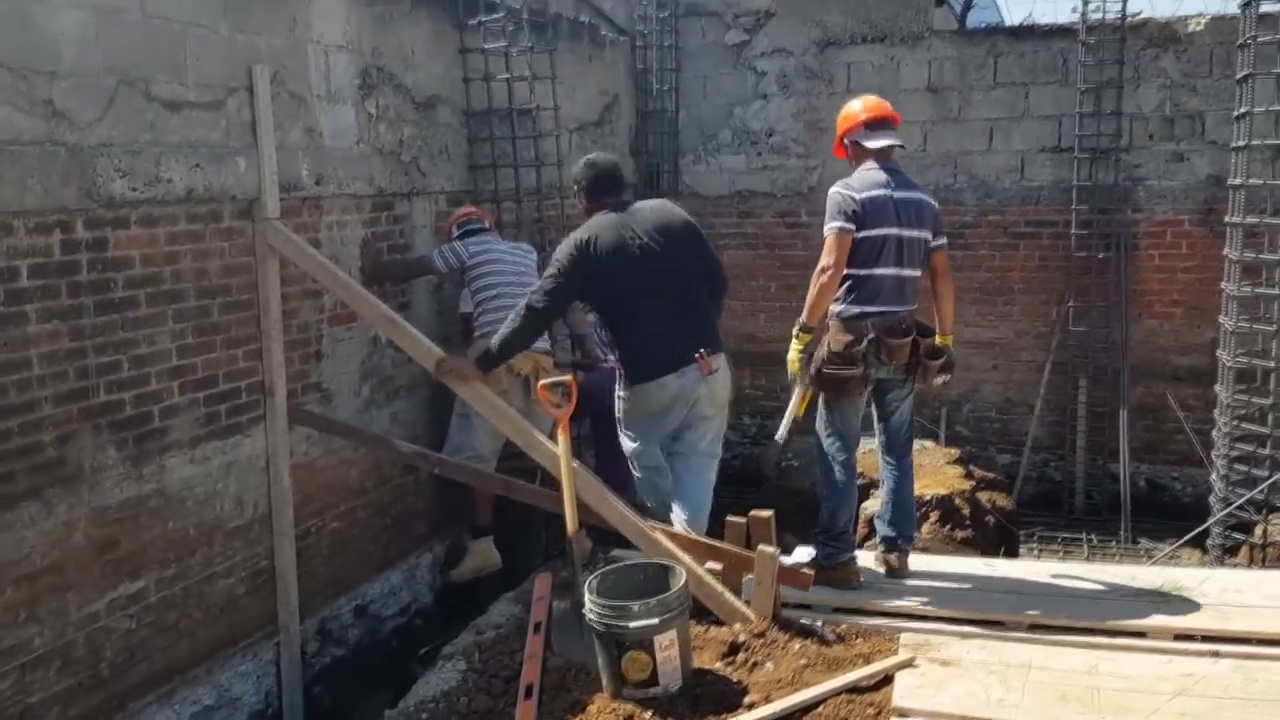helmet: (829, 94, 908, 162), (442, 202, 489, 233)
helmet-off: (568, 160, 631, 221)
helmet-on: (828, 93, 910, 179), (438, 201, 492, 240)
person: (435, 152, 725, 561), (780, 92, 954, 602), (361, 197, 547, 586)
